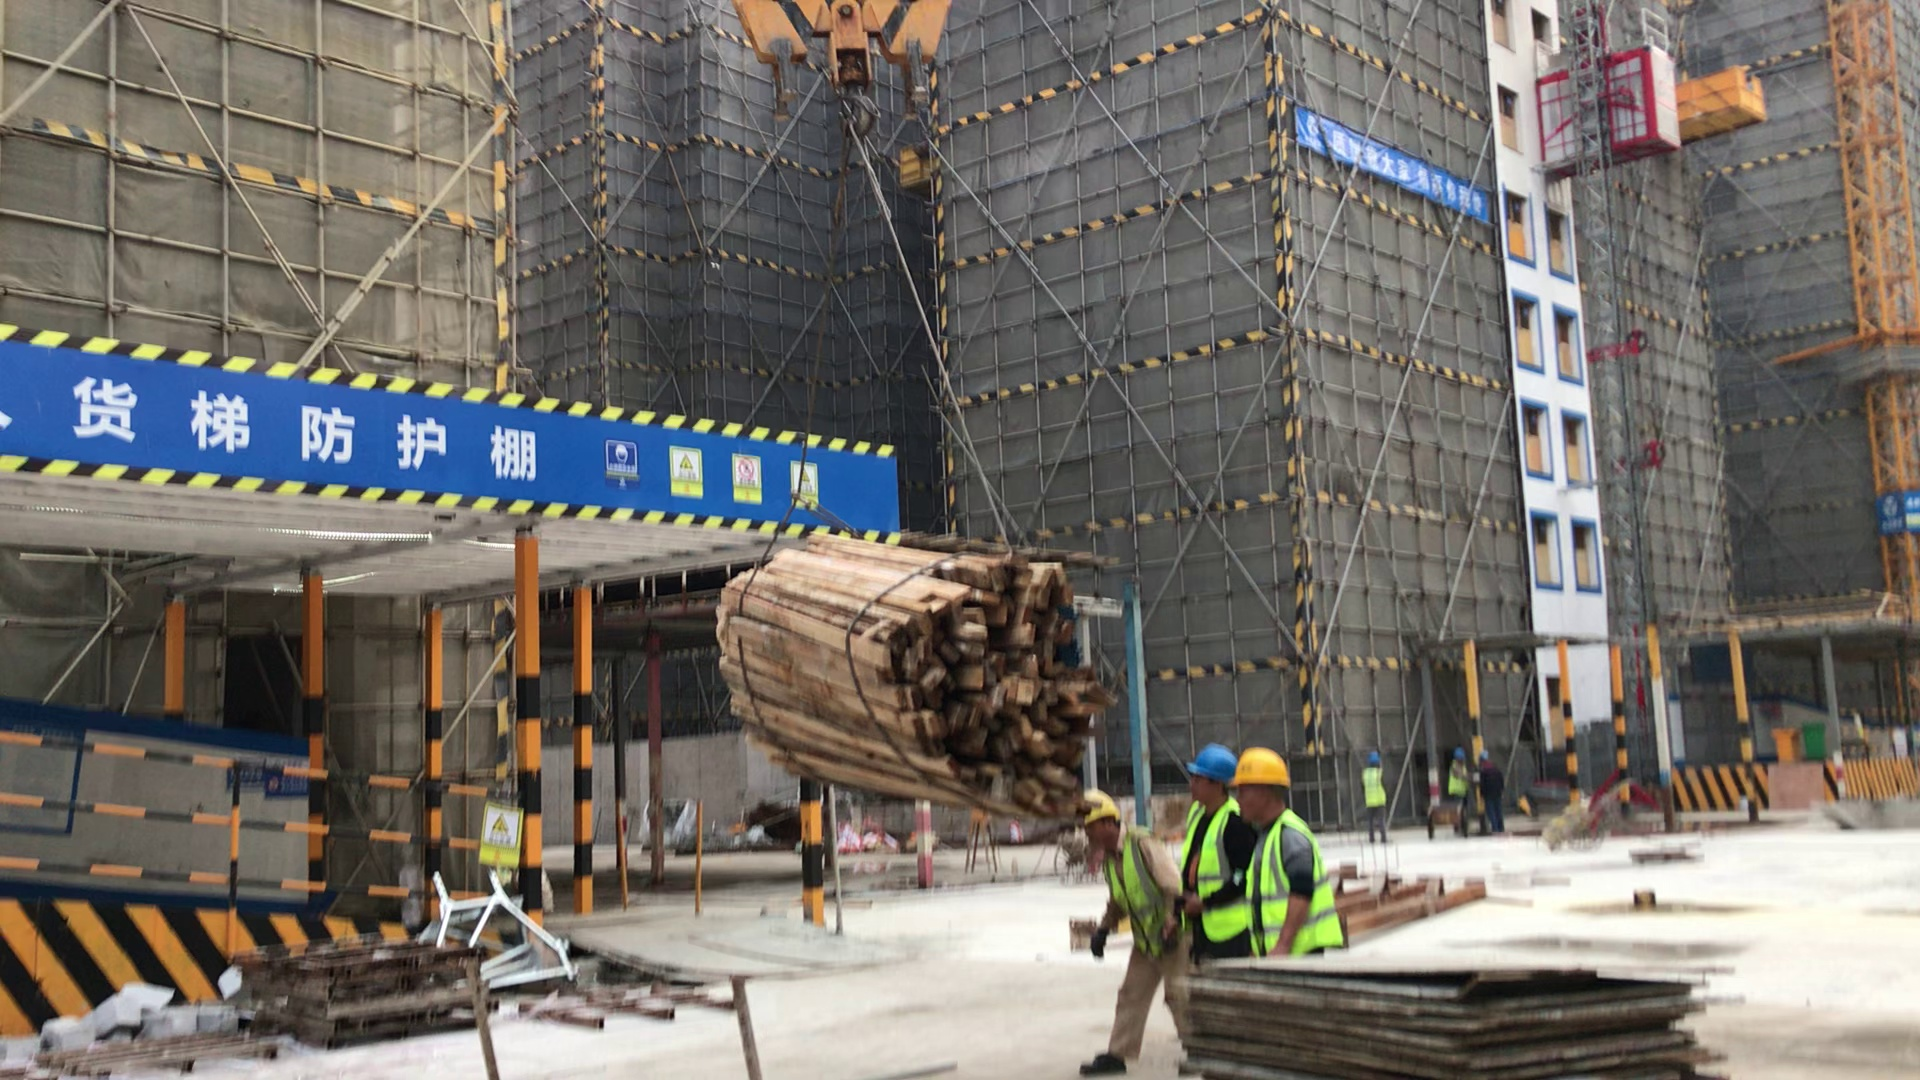board: (1154, 938, 1812, 1080)
brick: (3, 966, 252, 1072)
fence: (3, 709, 537, 922)
handcart: (1528, 777, 1635, 862), (1414, 792, 1477, 842)
helmet: (1228, 742, 1301, 804), (1066, 781, 1138, 842), (1181, 735, 1239, 800), (1363, 749, 1385, 769), (1450, 743, 1466, 761), (1473, 748, 1492, 763)
hook: (688, 5, 1014, 159)
hopper: (1800, 774, 1920, 848)
person: (1062, 780, 1186, 1080), (1227, 746, 1361, 970), (1169, 731, 1251, 979), (1350, 745, 1402, 847), (1473, 747, 1513, 833), (1444, 739, 1474, 830)
slogan: (1, 309, 946, 564), (1, 666, 352, 922), (1281, 105, 1503, 222), (461, 792, 531, 889), (1869, 474, 1920, 547)
vest: (1249, 809, 1359, 961), (1175, 793, 1256, 951), (1099, 846, 1183, 955), (1356, 765, 1389, 811), (1448, 760, 1471, 796)
wood: (707, 527, 1121, 827)
